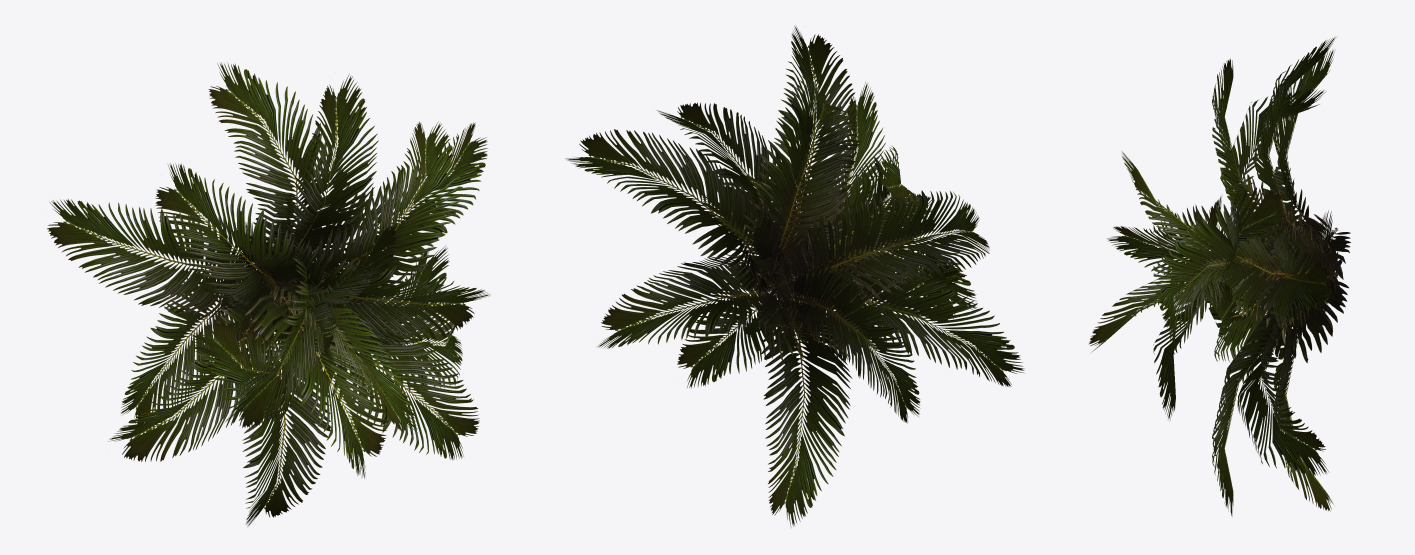
The model's file is Pl_Shrub5.glb.
3 renders of one model, left to right at view 1: azimuth 30°, elevation 25°; view 2: azimuth 150°, elevation 25°; view 3: azimuth 270°, elevation 25°, orthographic. The views are drawn at different scales.
Visible parts, largest first — view 1: trop_shrub_05; view 2: trop_shrub_05; view 3: trop_shrub_05.
Part boxes in pixels (box(x1,y1,x2,y2)): trop_shrub_05: box(47, 62, 490, 526); trop_shrub_05: box(565, 26, 1024, 527); trop_shrub_05: box(1089, 37, 1350, 516).
Bounding box in the file's own units: 1.4 × 1.4 × 0.8438.
Materials: 1 (1 with a texture image).
